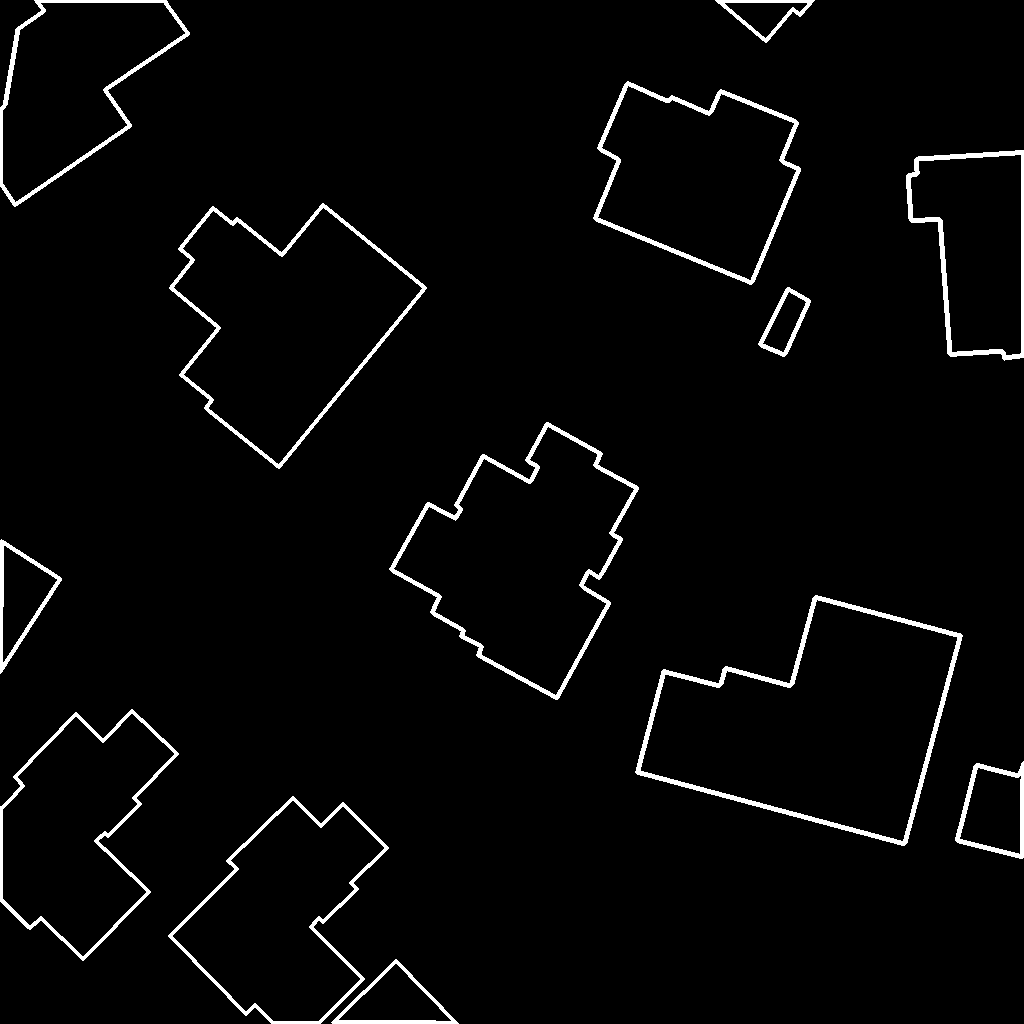building: (637, 597, 962, 845), (391, 424, 638, 699), (171, 205, 426, 468), (170, 798, 388, 1024), (0, 711, 178, 960), (595, 83, 800, 284), (0, 0, 189, 206), (908, 152, 1024, 359), (0, 541, 61, 673), (333, 961, 458, 1024), (957, 763, 1024, 858), (717, 0, 814, 42), (760, 289, 810, 356)
